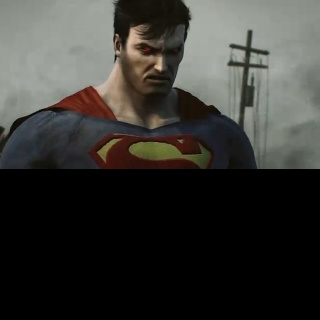without_mask: (120, 24, 183, 98)
